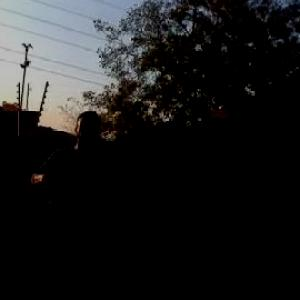follow: (14, 98, 113, 299)
